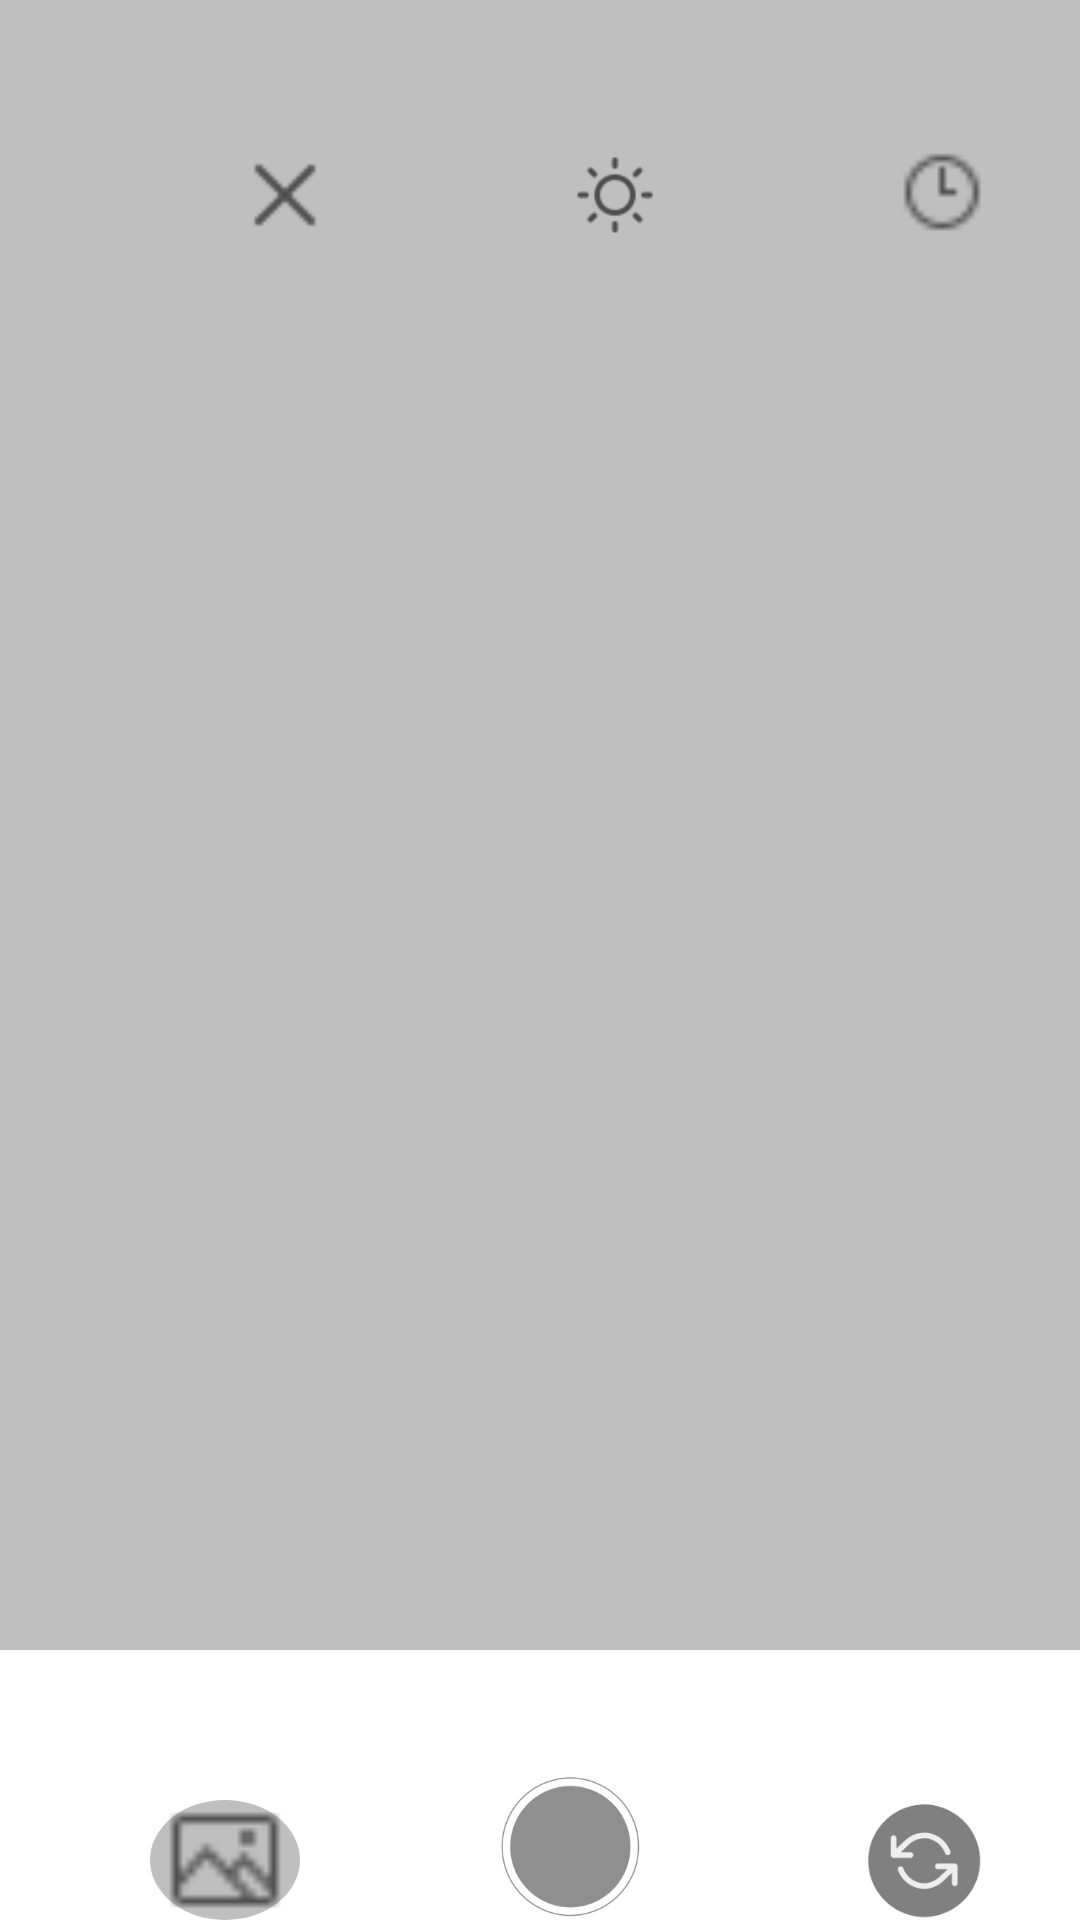

Icons on this 1080px x 1920px Android screen, each with the point to tap as [x,y]:
brightness: [615,195]
cancel: [285,195]
clock: [942,192]
gallery: [225,1860]
refresh: [924,1861]
